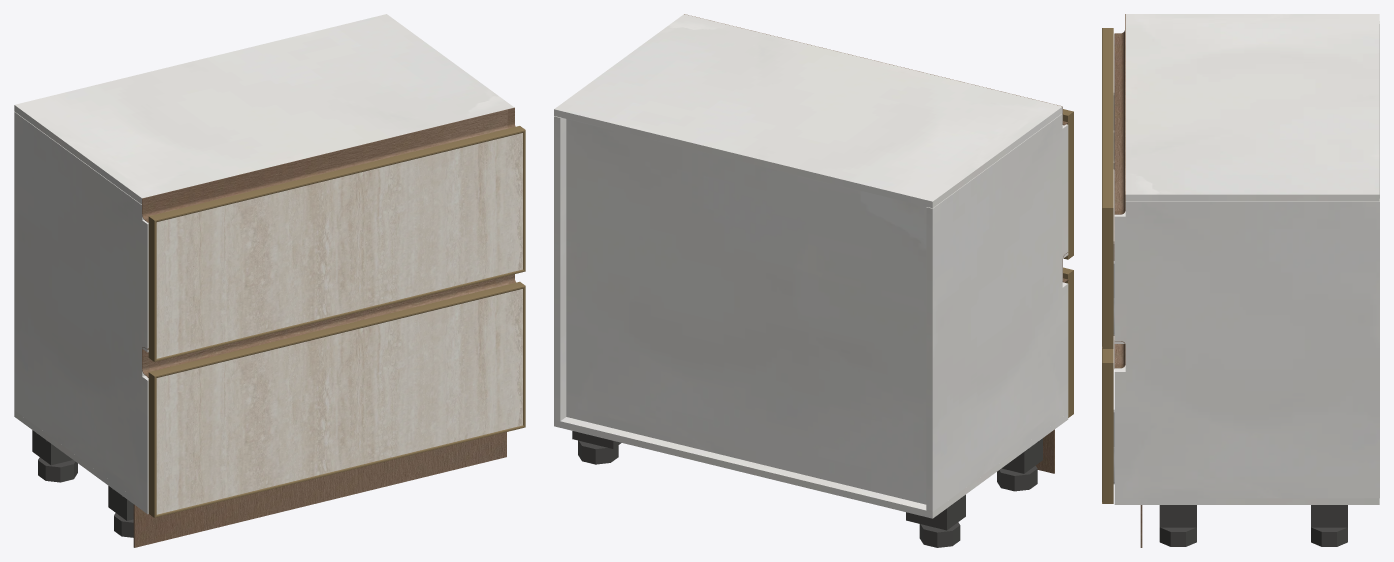
File: BC-DW-CJ-ST-XXX-2HB-XXX-900-720-560-15.glb
3 renders of one model, left to right at view 1: azimuth 30°, elevation 25°; view 2: azimuth 150°, elevation 25°; view 3: azimuth 270°, elevation 25°, orthographic. The views are drawn at different scales.
Parts seen in each view (by area): view 1: Object_node_69, Object_node_67, TP_node_1, TP_node, Object_node_71, ExtrSplGeo, ExtrSplGeo_node, Extrusion, Extrusion_node_2, Extrusion_node_1, Extrusion_node_5, Extrusion_node_4 (+4 smaller); view 2: TP_node_6, TP_node_1, TP_node, TP, TP_node_0, Extrusion_node_5, Plate, Extrusion_node_1, Foot, Foot_node_0, Foot_node, Plate_node_0; view 3: TP_node_0, TP_node_1, ExtrSplGeo, Extrusion_node_2, TP, Extrusion_node, Extrusion_node_3, Plate_node_1, Plate_node, Foot_node_1, Foot_node, ExtrSplGeo_node.
Boxes of the visible parts, <box> form: Object_node_69: <box>156,133,522,358</box>; Object_node_67: <box>156,289,522,514</box>; TP_node_1: <box>14,14,514,204</box>; TP_node: <box>14,111,148,507</box>; Object_node_71: <box>133,432,506,547</box>; ExtrSplGeo: <box>142,107,515,222</box>; ExtrSplGeo_node: <box>142,274,515,377</box>; Extrusion: <box>149,281,525,377</box>; Extrusion_node_2: <box>149,126,525,221</box>; Extrusion_node_1: <box>148,372,156,517</box>; Extrusion_node_5: <box>148,216,156,361</box>; Extrusion_node_4: <box>155,269,525,361</box>; TP_node_6: <box>566,119,926,504</box>; TP_node_1: <box>554,14,1062,208</box>; TP_node: <box>926,113,1068,511</box>; TP: <box>554,413,1068,518</box>; TP_node_0: <box>554,116,566,420</box>; Extrusion_node_5: <box>1063,112,1073,259</box>; Plate: <box>906,494,965,530</box>; Extrusion_node_1: <box>1063,270,1073,417</box>; Foot: <box>919,522,960,547</box>; Foot_node_0: <box>997,466,1037,491</box>; Foot_node: <box>578,440,618,464</box>; Plate_node_0: <box>1002,438,1042,473</box>; TP_node_0: <box>1114,199,1379,498</box>; TP_node_1: <box>1125,14,1379,201</box>; ExtrSplGeo: <box>1114,14,1125,214</box>; Extrusion_node_2: <box>1102,28,1113,208</box>; TP: <box>1114,368,1379,504</box>; Extrusion_node: <box>1102,363,1113,503</box>; Extrusion_node_3: <box>1102,208,1113,348</box>; Plate_node_1: <box>1159,505,1196,527</box>; Plate_node: <box>1311,505,1347,527</box>; Foot_node_1: <box>1159,527,1196,546</box>; Foot_node: <box>1311,527,1347,546</box>; ExtrSplGeo_node: <box>1114,215,1125,368</box>.
Size of what is drawn, in the model's own units: 0.9 by 0.82 by 0.5842.
7 materials, 3 textured.
